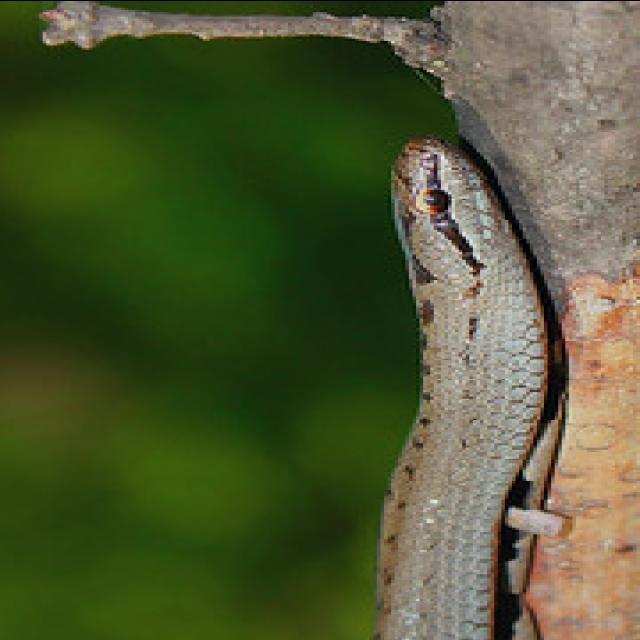snake: (288, 133, 566, 640)
